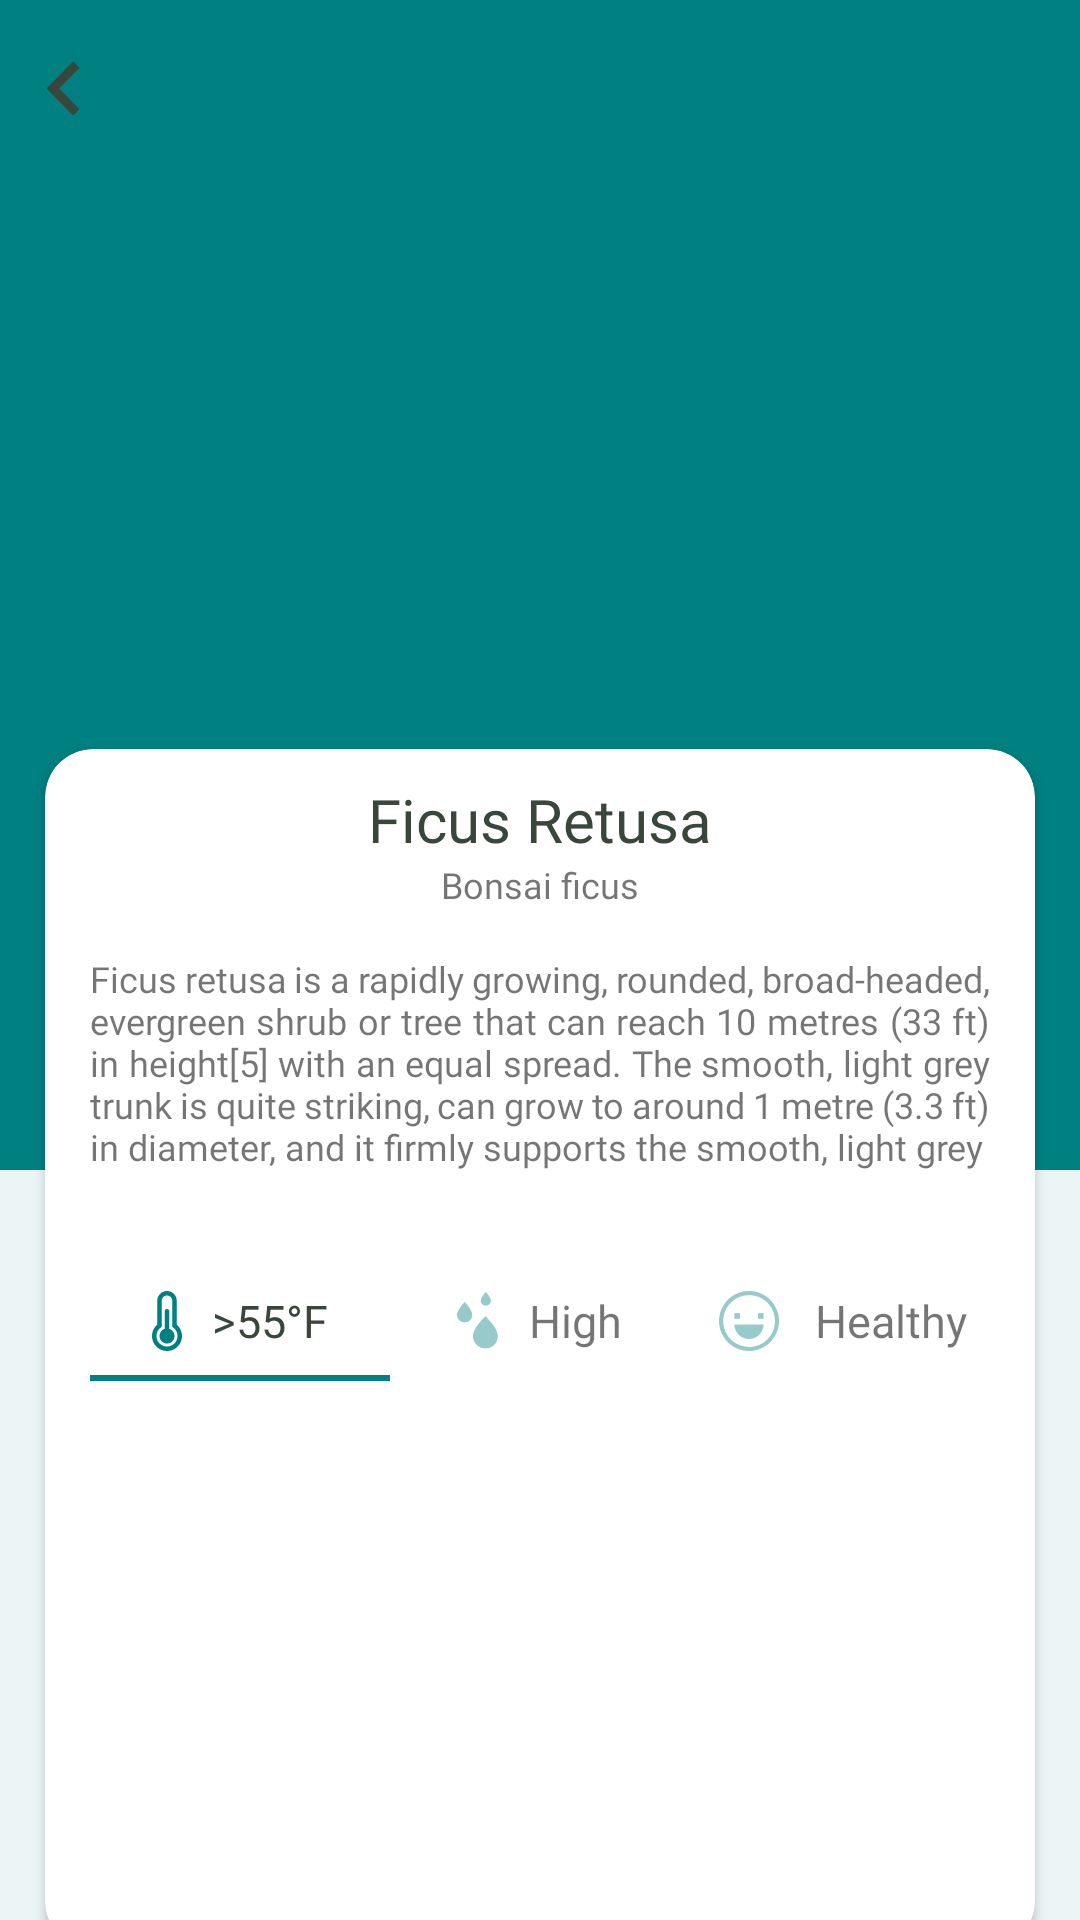

Where icons sit on this 1080*1920 app screen, as bbox(x1, y1, x2, y2):
scan back: bbox(47, 62, 79, 115)
